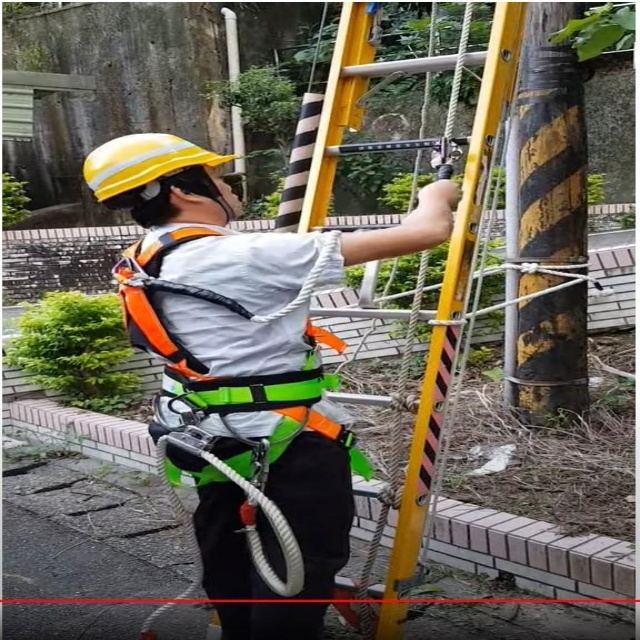Arnes_seguridad: (102, 227, 367, 493)
